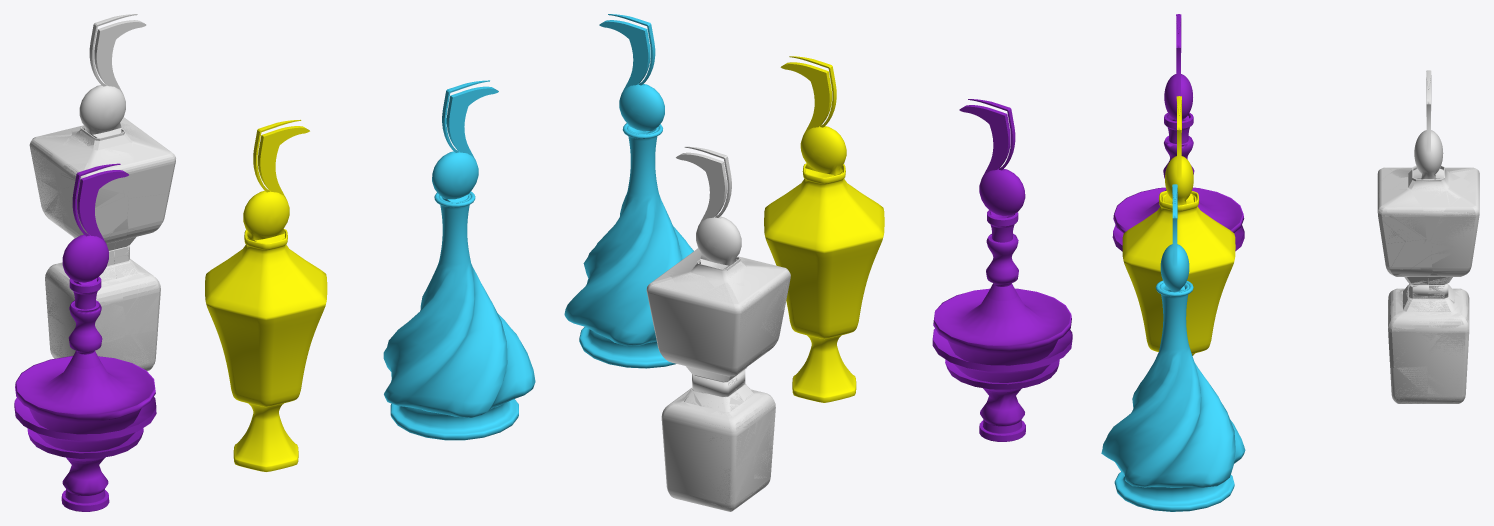
Rendered from Potion_Solo_Cassee.fbx.
3 views of the same model, side by side, from view 1: azimuth 30°, elevation 25°; view 2: azimuth 150°, elevation 25°; view 3: azimuth 270°, elevation 25° (orthographic). The views are drawn at different scales.
Parts seen in each view (by area): view 1: Potion_Legato_Corps, Potion_Staccato_Corps, Potions_Pizzicato_Corps, Potion_Solo_Corps, Potion_Staccato_Bouchon, Potion_Solo_Corps_Bouchon, Potion_Legato_Bouchon, Potions_Pizzicato_Bouchon, Potion_Solo_Corps.001_cell.045, Potion_Solo_Corps.001_cell.055, Potion_Solo_Corps.001_cell.010, Potion_Solo_Corps.001_cell.064 (+5 smaller); view 2: Potion_Solo_Corps, Potion_Staccato_Corps, Potions_Pizzicato_Corps, Potion_Legato_Corps, Potion_Staccato_Bouchon, Potion_Solo_Corps_Bouchon, Potion_Legato_Bouchon, Potions_Pizzicato_Bouchon, Potion_Solo_Corps.001_cell.066; view 3: Potion_Legato_Corps, Potion_Solo_Corps, Potion_Staccato_Corps, Potions_Pizzicato_Corps, Potion_Solo_Corps_Bouchon, Potion_Legato_Bouchon, Potion_Staccato_Bouchon, Potions_Pizzicato_Bouchon, Potion_Solo_Corps.001_cell.013, Potion_Solo_Corps.001_cell.006, Potion_Solo_Corps.001_cell.030, Potion_Solo_Corps.001_cell.004 (+4 smaller).
Part boxes in pixels (x1,y1,x2,y2): Potion_Legato_Corps: [383, 191, 535, 440]; Potion_Staccato_Corps: [205, 229, 327, 471]; Potions_Pizzicato_Corps: [14, 276, 156, 511]; Potion_Solo_Corps: [30, 121, 175, 371]; Potion_Staccato_Bouchon: [243, 119, 309, 243]; Potion_Solo_Corps_Bouchon: [79, 14, 146, 138]; Potion_Legato_Bouchon: [432, 80, 498, 202]; Potions_Pizzicato_Bouchon: [62, 163, 128, 284]; Potion_Solo_Corps.001_cell.045: [127, 157, 175, 198]; Potion_Solo_Corps.001_cell.055: [127, 192, 169, 230]; Potion_Solo_Corps.001_cell.010: [63, 196, 128, 237]; Potion_Solo_Corps.001_cell.064: [68, 300, 125, 343]; Potion_Solo_Corps: [646, 248, 790, 511]; Potion_Staccato_Corps: [764, 163, 884, 402]; Potions_Pizzicato_Corps: [932, 210, 1072, 441]; Potion_Legato_Corps: [564, 123, 693, 368]; Potion_Staccato_Bouchon: [780, 56, 846, 177]; Potion_Solo_Corps_Bouchon: [676, 146, 741, 268]; Potion_Legato_Bouchon: [599, 14, 664, 133]; Potions_Pizzicato_Bouchon: [959, 99, 1025, 218]; Potion_Solo_Corps.001_cell.066: [721, 427, 755, 467]; Potion_Legato_Corps: [1101, 280, 1245, 511]; Potion_Solo_Corps: [1378, 166, 1479, 403]; Potion_Staccato_Corps: [1122, 190, 1235, 355]; Potions_Pizzicato_Corps: [1112, 112, 1244, 251]; Potion_Solo_Corps_Bouchon: [1413, 70, 1443, 179]; Potion_Legato_Bouchon: [1160, 184, 1189, 291]; Potion_Staccato_Bouchon: [1164, 96, 1193, 205]; Potions_Pizzicato_Bouchon: [1164, 14, 1192, 121]; Potion_Solo_Corps.001_cell.013: [1409, 185, 1458, 240]; Potion_Solo_Corps.001_cell.006: [1379, 189, 1426, 238]; Potion_Solo_Corps.001_cell.030: [1388, 239, 1432, 275]; Potion_Solo_Corps.001_cell.004: [1430, 215, 1475, 244].
Bounding box in the file's own units: 493 × 330 × 354.
